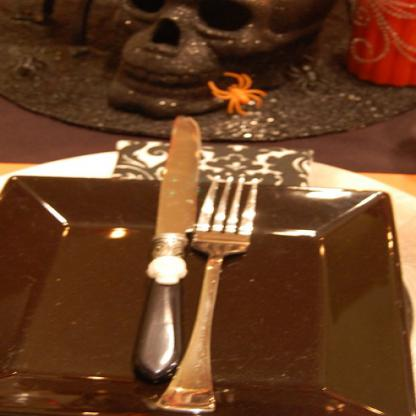knife: (129, 117, 203, 383)
